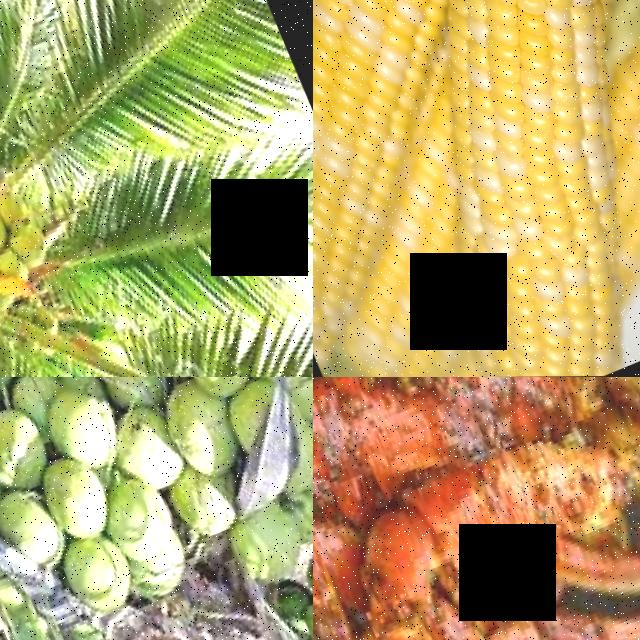coconuts: (0, 433, 198, 640), (90, 377, 313, 467), (0, 377, 114, 518), (0, 179, 59, 302)
corn: (355, 0, 640, 377), (313, 0, 591, 201), (423, 0, 640, 218), (521, 0, 640, 308)
crab: (313, 377, 640, 640)
